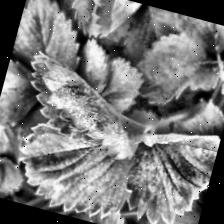Powdery Mildew Leaf: (12, 50, 154, 164), (6, 117, 142, 224), (107, 114, 221, 224), (83, 0, 191, 60)
